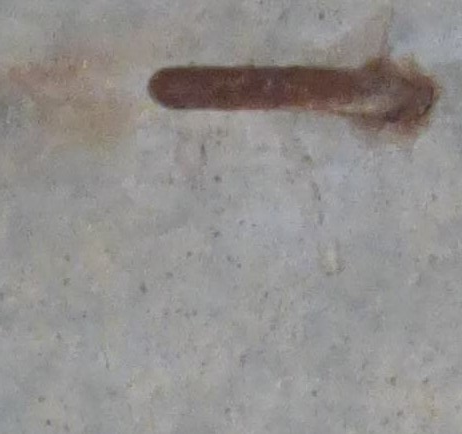Exposed reinforcement: (145, 65, 416, 112)
